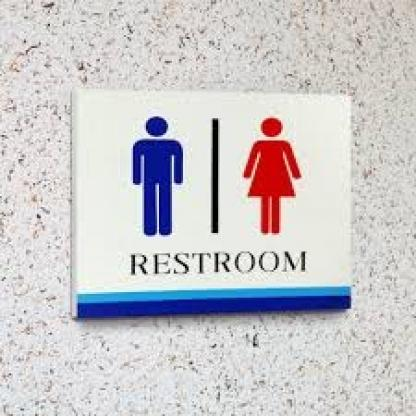toilet: (122, 106, 316, 243)
